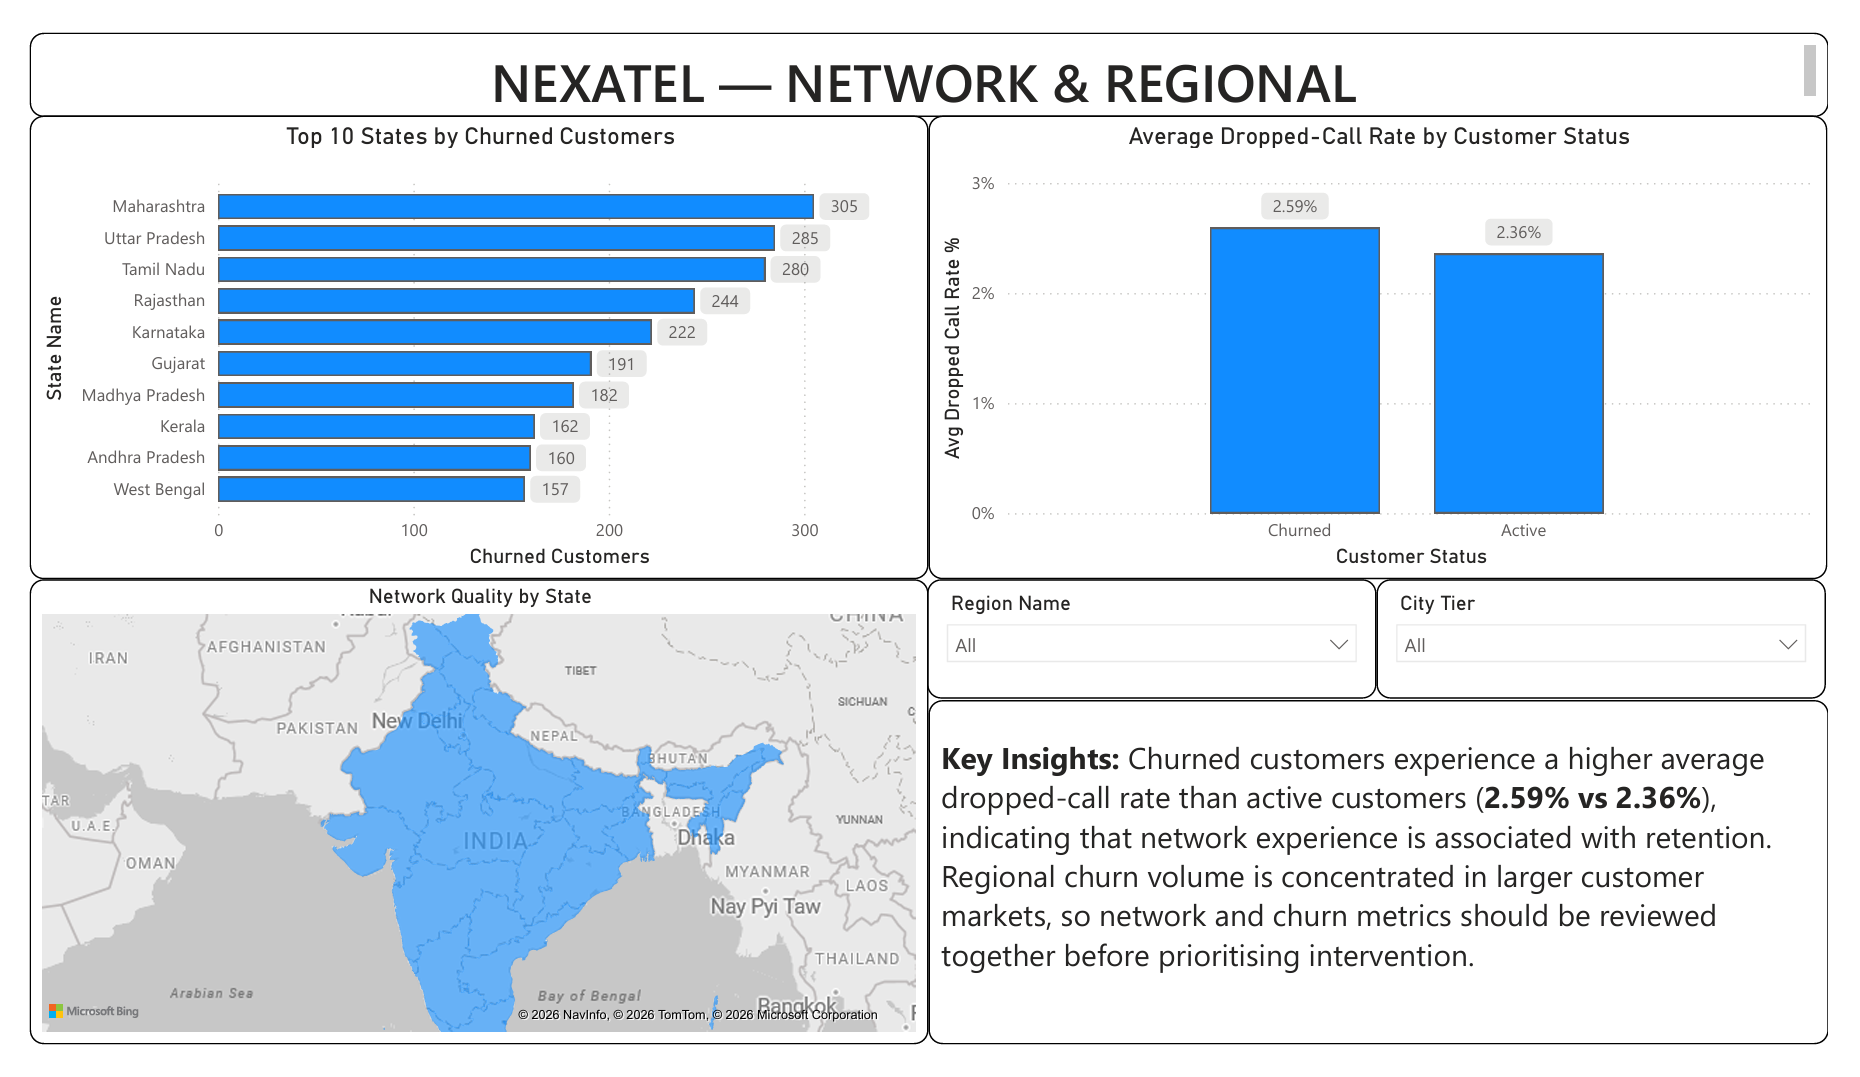

The dashboard page shown, as its layout file describes it:
{"tool":"powerbi","page":{"name":"Network & Regional","canvas":[1280,720],"ordinal":3},"visuals":[{"type":"textbox","box":[0,0,1280.8,60],"z":0},{"type":"clusteredBarChart","title":"Top 10 States by Churned Customers","fields":{"Category":["states_clean.state_name"],"Y":["KPI_Measures.Churned Customers"]},"box":[0,59.4,640,330],"z":1000},{"type":"clusteredColumnChart","title":"Average Dropped-Call Rate by Customer Status","fields":{"Category":["customers_clean.customer_status"],"Y":["KPI_Measures.Avg Dropped Call Rate %"]},"box":[640.4,59.4,640,330],"z":2000},{"type":"slicer","fields":{"Values":["regions_clean.region_name"]},"box":[638.6,388.6,320.2,85],"z":3000},{"type":"slicer","fields":{"Values":["customers_clean.city_tier"]},"box":[958.8,388.6,320.2,85],"z":4000},{"type":"textbox","box":[640.4,474.9,640.4,244.7],"z":5000},{"type":"filledMap","title":"Network Quality by State","fields":{"Category":["states_clean.state_name"]},"box":[0,388.6,640.4,331],"z":6000}]}

Visuals, with their boxes in screenshot pixels (x1, y1, x2, y2), scaled from the page's 1280x720 canvas onto the 1860x1077 screenshot:
textbox: 0:0:1859:90
"Top 10 States by Churned Customers" clusteredBarChart: 0:89:930:582
"Average Dropped-Call Rate by Customer Status" clusteredColumnChart: 931:89:1859:582
slicer - regions_clean.region_name: 928:581:1393:708
slicer - customers_clean.city_tier: 1393:581:1859:708
textbox: 931:710:1859:1076
"Network Quality by State" filledMap: 0:581:931:1076
